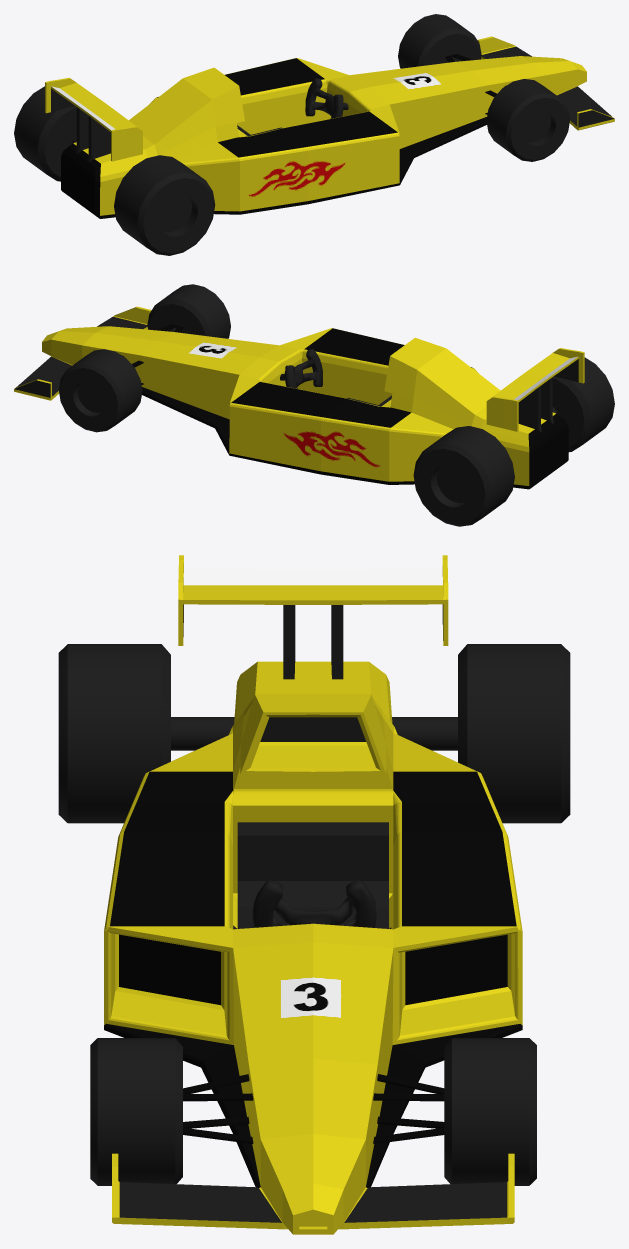
The model's file is Car 2.FBX.
The picture shows the model from 3 angles, top to bottom: view 1: azimuth 30°, elevation 25°; view 2: azimuth 150°, elevation 25°; view 3: azimuth 270°, elevation 25°; orthographic projection. The views are drawn at different scales.
Parts seen in each view (by area): view 1: car 2; view 2: car 2; view 3: car 2.
Boxes of the visible parts, bbox=[...] form: car 2: bbox=[14, 14, 614, 255]; car 2: bbox=[14, 284, 614, 526]; car 2: bbox=[58, 555, 570, 1234].
Bounding box in the file's own units: 24.39 × 5.23 × 10.68.
Materials: 1 (1 with a texture image).
